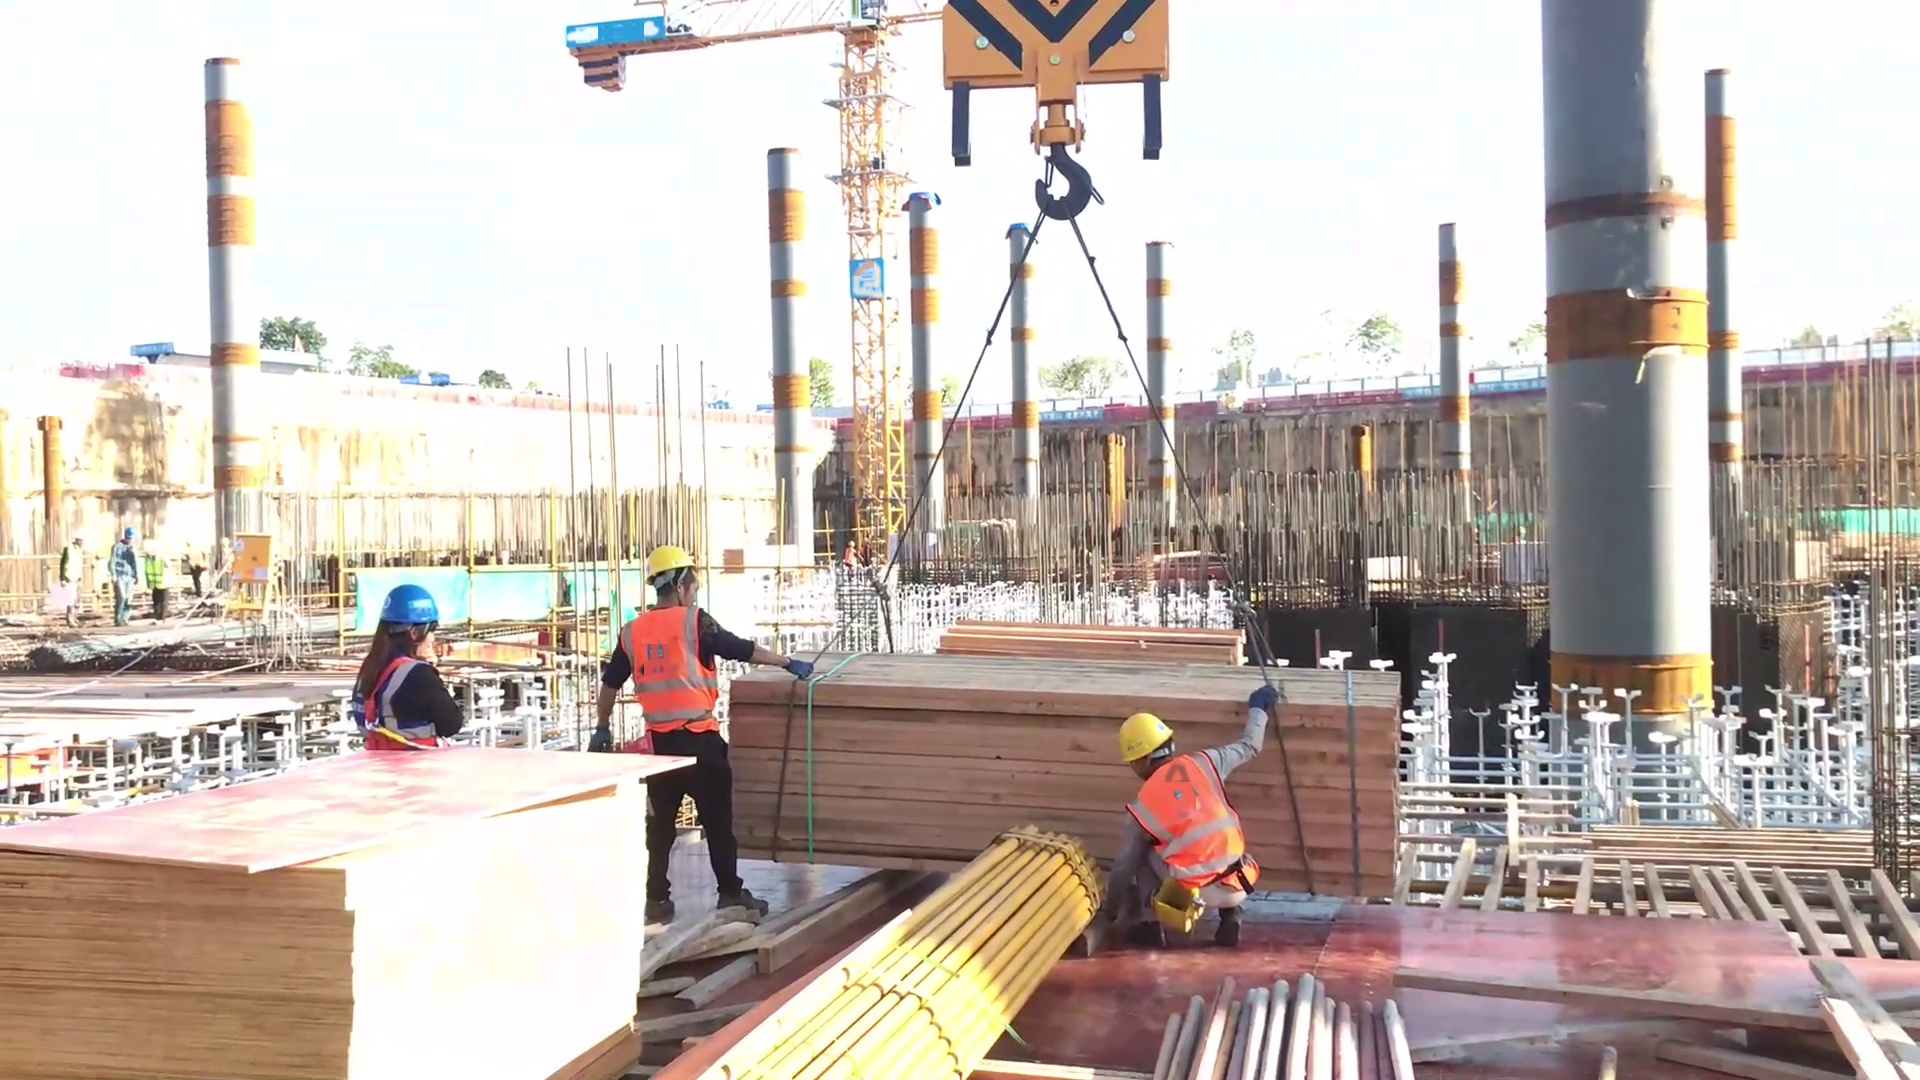board: (1, 746, 732, 1071)
ebox: (198, 529, 283, 631)
helmet: (379, 574, 450, 629), (1105, 703, 1175, 758), (639, 538, 720, 580)
hook: (931, 1, 1169, 216)
person: (585, 539, 823, 922), (1100, 677, 1275, 929), (346, 583, 471, 754), (98, 523, 140, 616)
vest: (1125, 753, 1269, 889), (617, 604, 727, 731), (351, 647, 447, 754)
wood: (709, 642, 1439, 899)
